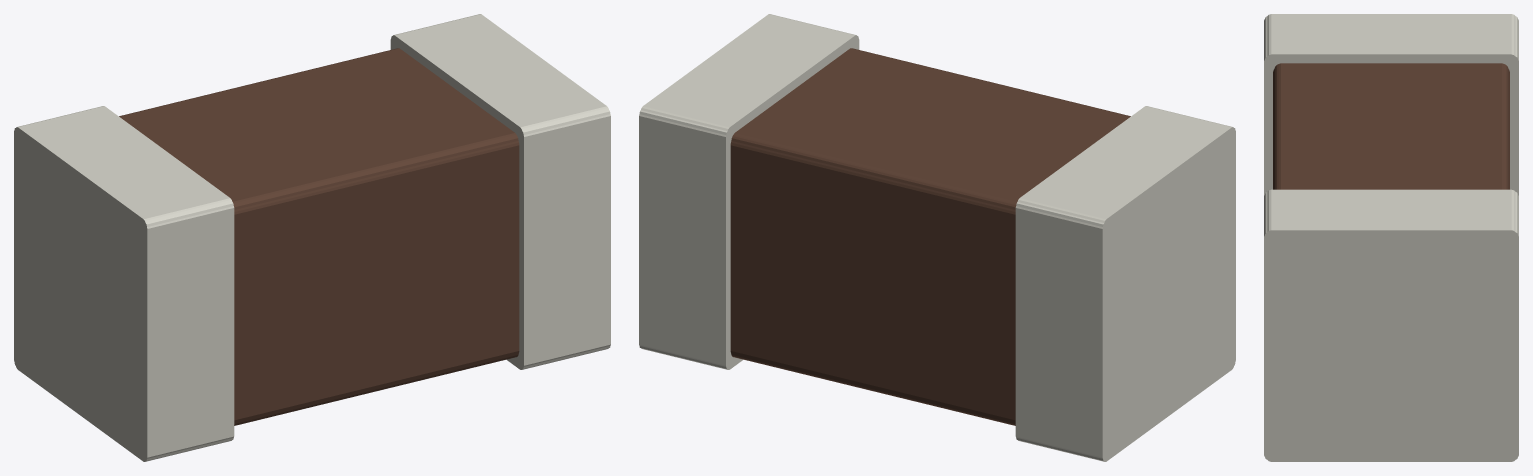
The model's file is cap0603.glb.
The picture shows the model from 3 angles, left to right: view 1: azimuth 30°, elevation 25°; view 2: azimuth 150°, elevation 25°; view 3: azimuth 270°, elevation 25°; orthographic projection. The views are drawn at different scales.
Visible parts, largest first — view 1: mesh|d2d1c7 (×8), mesh|614537 (×4); view 2: mesh|d2d1c7 (×8), mesh|614537 (×4); view 3: mesh|d2d1c7 (×8), mesh|614537 (×3).
Part boxes in pixels (x1,y1,x2,y2): mesh|d2d1c7 (×8): (14, 15, 610, 461); mesh|614537 (×4): (120, 49, 519, 425); mesh|d2d1c7 (×8): (639, 15, 1235, 461); mesh|614537 (×4): (730, 49, 1129, 425); mesh|d2d1c7 (×8): (1264, 14, 1518, 461); mesh|614537 (×3): (1273, 63, 1509, 189).
Bounding box in the file's own units: 1.6 × 0.8001 × 0.7976.
